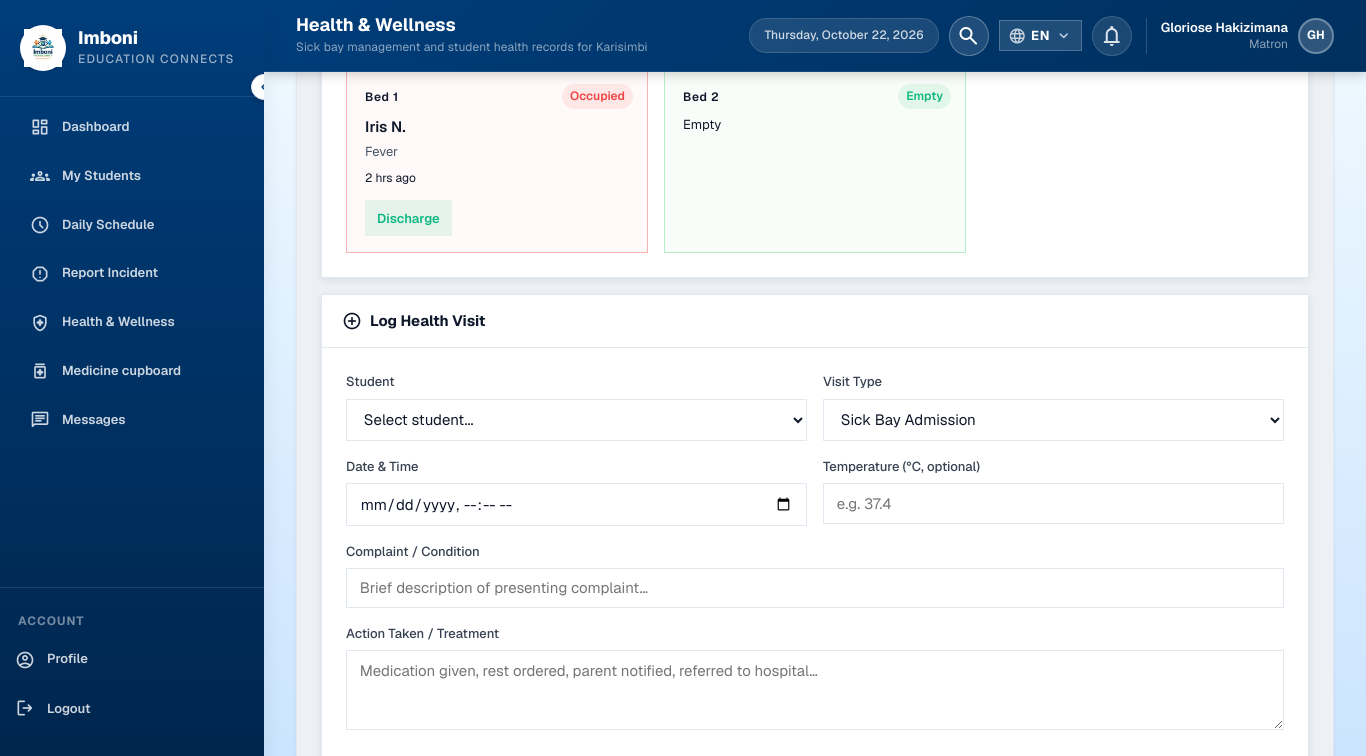
MatronHealth › shows a save error message when createHealthRecord rejects
(page scrolled)
Expected: the heading "Log Health Visit" is shown, [342,311,486,331]
Select "Iris Niyomugabo (SS2A)" in the 1st dropdown: [576, 420] box [346,399,807,441]
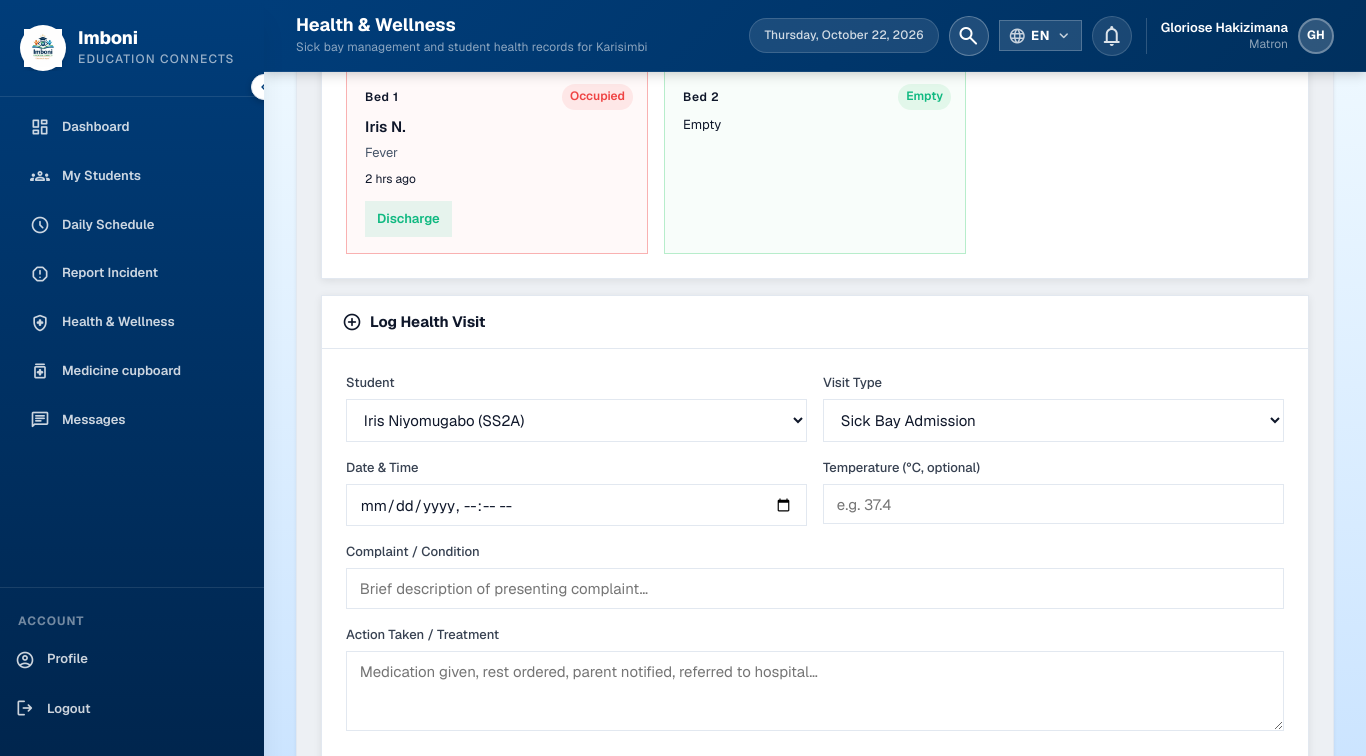
In the field with placeholder "Brief description of presenting complaint…": [815, 589] box [346,568,1284,609], type "Cough"
(page scrolled)
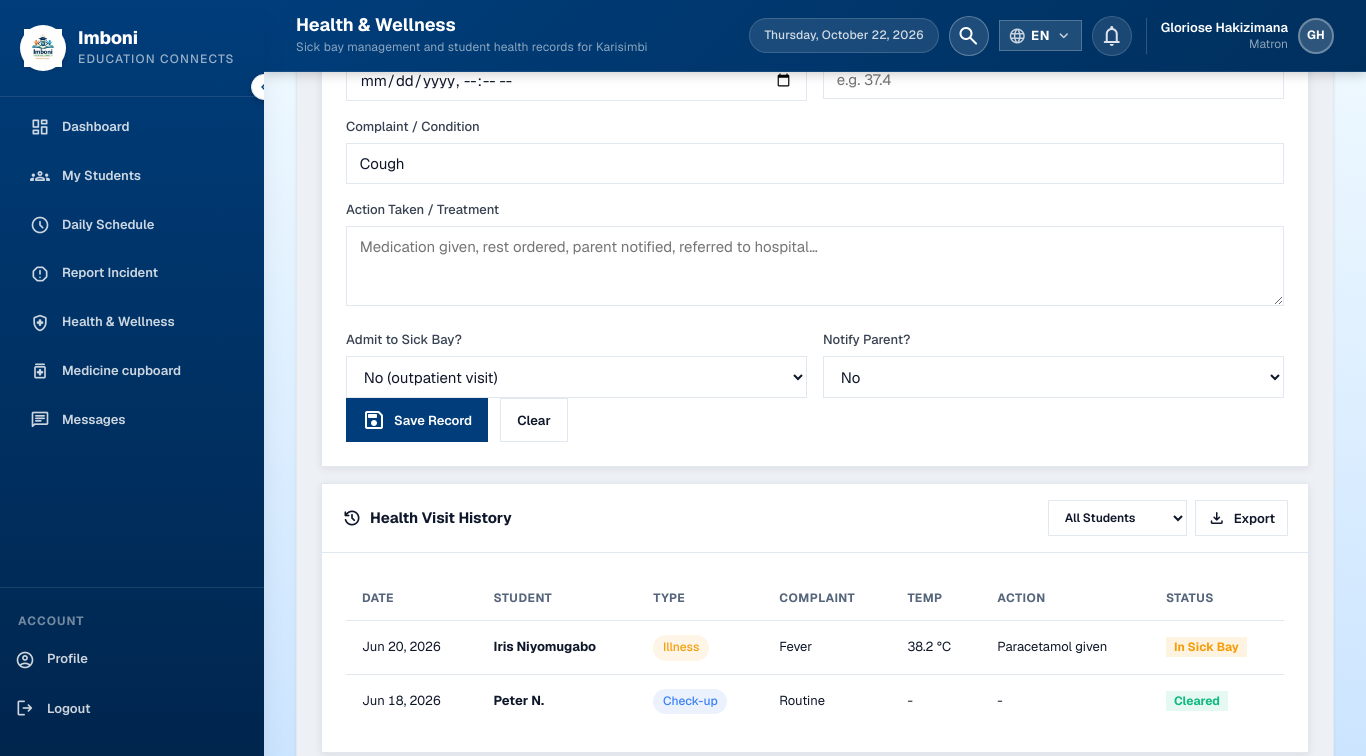
Click the button "Save Record": [417, 420] box [346,398,488,442]
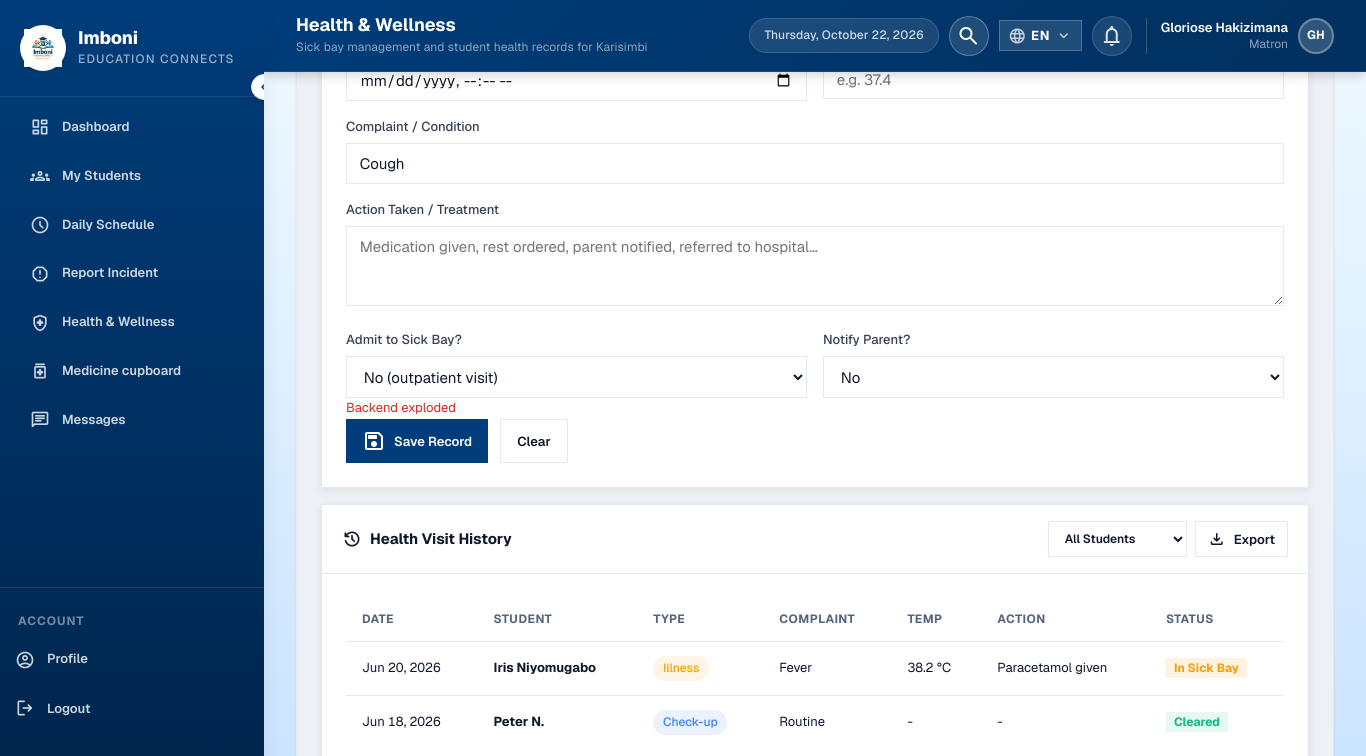
Result: the text "Backend exploded" is shown at [346,399,456,416]
